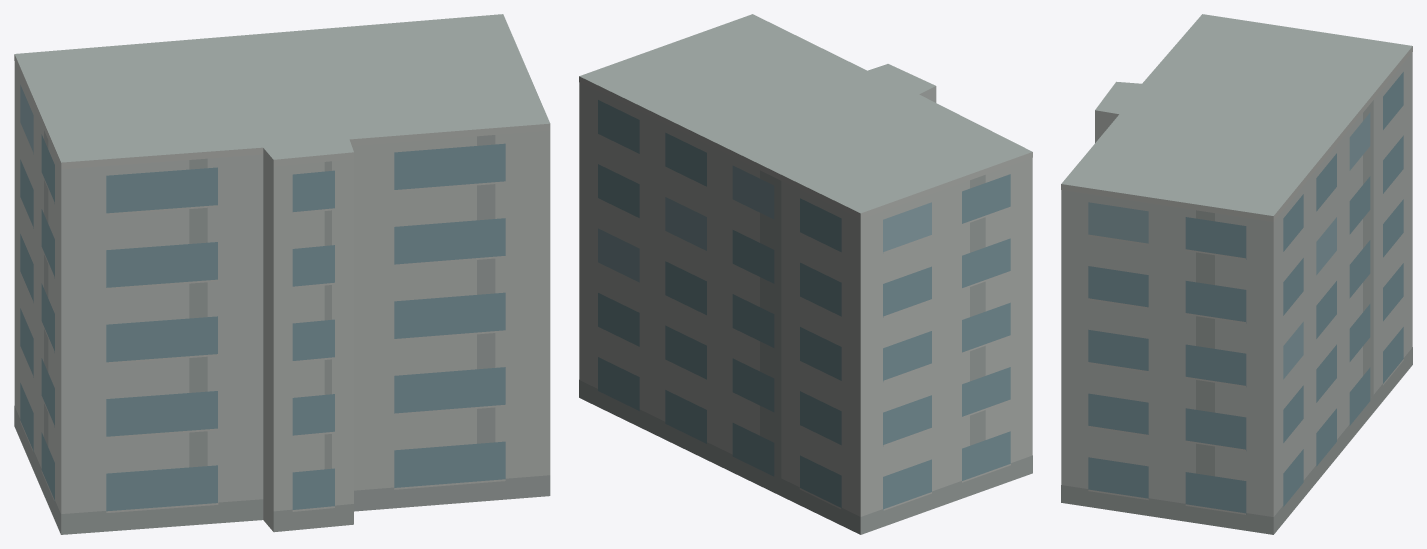
Rendered from survey-upis-32875849.glb.
3 renders of one model, left to right at view 1: azimuth 30°, elevation 25°; view 2: azimuth 150°, elevation 25°; view 3: azimuth 270°, elevation 25°, orthographic. The views are drawn at different scales.
Parts seen in each view (by area): view 1: survey-upis-32875849.tmp; view 2: survey-upis-32875849.tmp; view 3: survey-upis-32875849.tmp.
Boxes of the visible parts, box(x1,y1,x2,y2) form: survey-upis-32875849.tmp: box(14, 14, 550, 534); survey-upis-32875849.tmp: box(579, 14, 1032, 534); survey-upis-32875849.tmp: box(1061, 14, 1412, 534).
Bounding box in the file's own units: 17.82 × 13.1 × 13.11.
